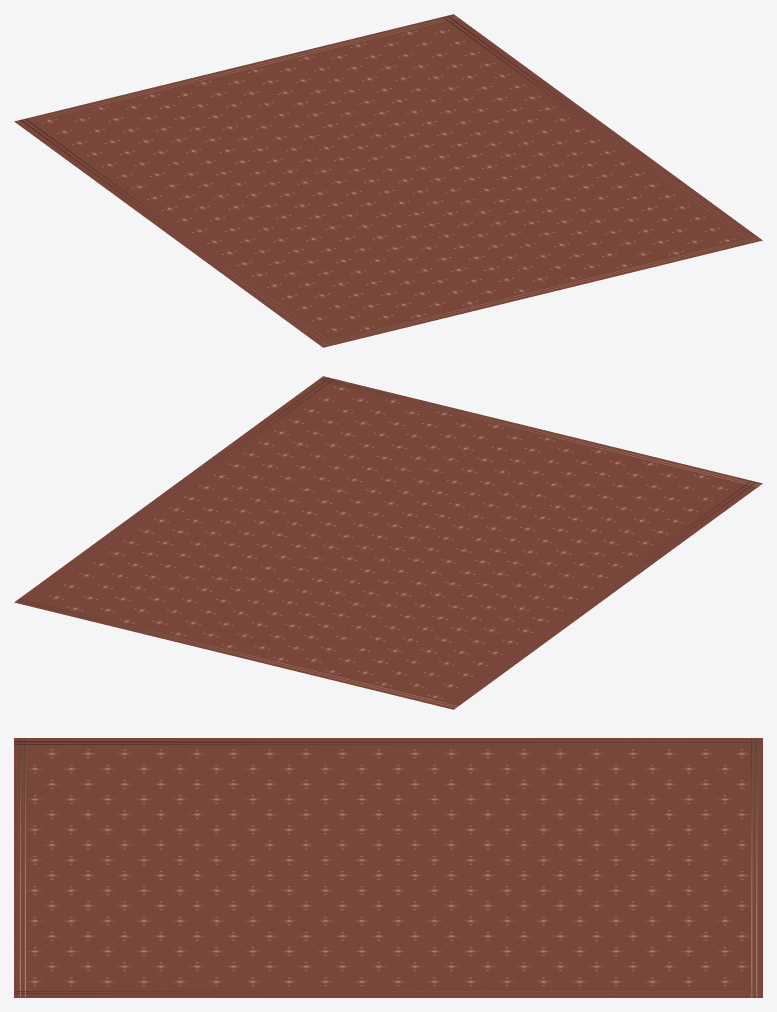
Rendered from skete-nave-carpet.glb.
3 renders of one model, top to bottom at view 1: azimuth 30°, elevation 25°; view 2: azimuth 150°, elevation 25°; view 3: azimuth 270°, elevation 25°, orthographic. The views are drawn at different scales.
Visible parts, largest first — view 1: wall to wall wool, lozenge weft, wool stitching, palmette hearts; view 2: wall to wall wool, lozenge weft, wool stitching, palmette hearts; view 3: wall to wall wool, lozenge weft, wool stitching, palmette hearts.
Boxes of the visible parts, x1,y1,x2,y2 form: wall to wall wool: [14, 14, 762, 347]; lozenge weft: [20, 16, 756, 345]; wool stitching: [17, 16, 759, 345]; palmette hearts: [48, 31, 728, 330]; wall to wall wool: [14, 376, 762, 709]; lozenge weft: [20, 378, 756, 707]; wool stitching: [17, 378, 759, 707]; palmette hearts: [55, 388, 721, 697]; wall to wall wool: [14, 738, 762, 997]; lozenge weft: [14, 741, 762, 994]; wool stitching: [19, 738, 757, 997]; palmette hearts: [31, 752, 745, 982].
Size of the model in its own units: 17.44 by 0.007 by 21.24.
4 materials, 1 textured.
